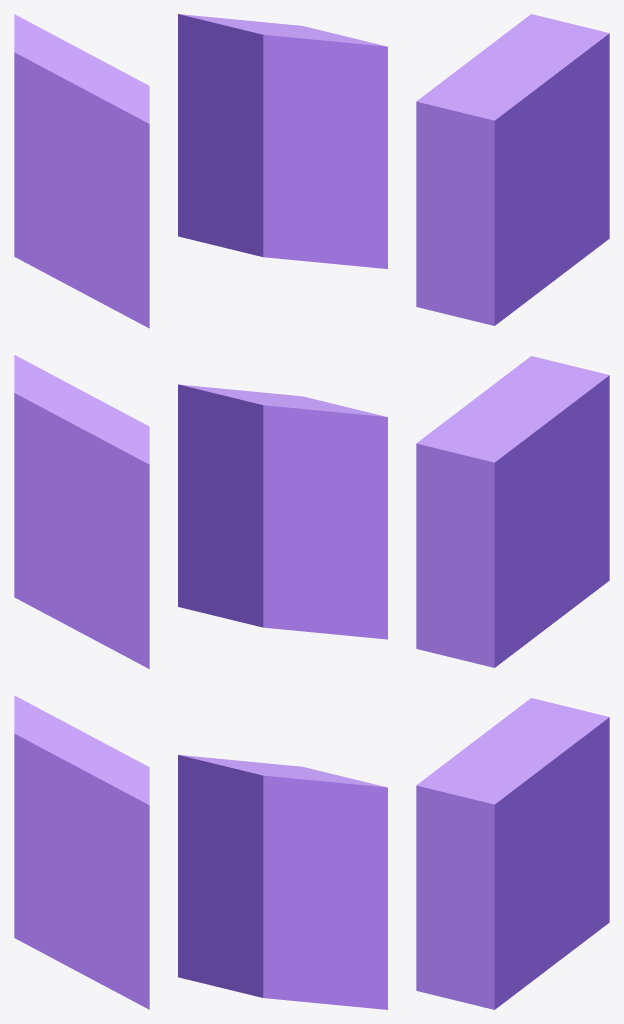
The model's file is Ghost_DashV.gltf.
The picture shows the model from 3 angles, left to right: view 1: azimuth 90°, elevation 25°; view 2: azimuth 150°, elevation 25°; view 3: azimuth 330°, elevation 25°; orthographic projection. The views are drawn at different scales.
Visible parts, largest first — view 1: Ghost_DashV_baked; view 2: Ghost_DashV_baked; view 3: Ghost_DashV_baked.
Part boxes in pixels (box(x1,y1,x2,y2)): Ghost_DashV_baked: box(14, 14, 149, 1009); Ghost_DashV_baked: box(178, 14, 387, 1009); Ghost_DashV_baked: box(416, 14, 609, 1009).
Bounding box in the file's own units: 0.128 × 0.914 × 0.12.
